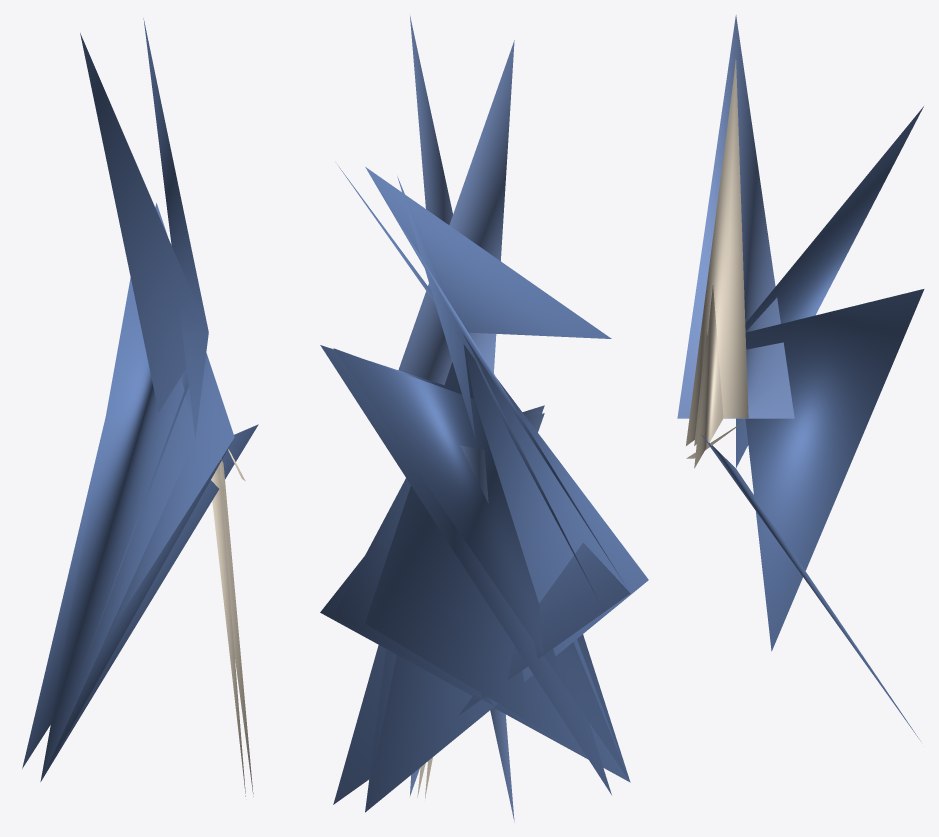
The model's file is equip_head_blue_wizard_hat.glb.
3 renders of one model, left to right at view 1: azimuth 30°, elevation 25°; view 2: azimuth 150°, elevation 25°; view 3: azimuth 270°, elevation 25°, orthographic. The views are drawn at different scales.
Parts seen in each view (by area): view 1: equip_head_blue_wizard_hat; view 2: equip_head_blue_wizard_hat; view 3: equip_head_blue_wizard_hat.
Boxes of the visible parts, x1,y1,x2,y2 form: equip_head_blue_wizard_hat: (22, 19, 258, 796); equip_head_blue_wizard_hat: (320, 16, 648, 822); equip_head_blue_wizard_hat: (677, 15, 924, 740).
Bounding box in the file's own units: 0.59 × 2 × 0.59.
